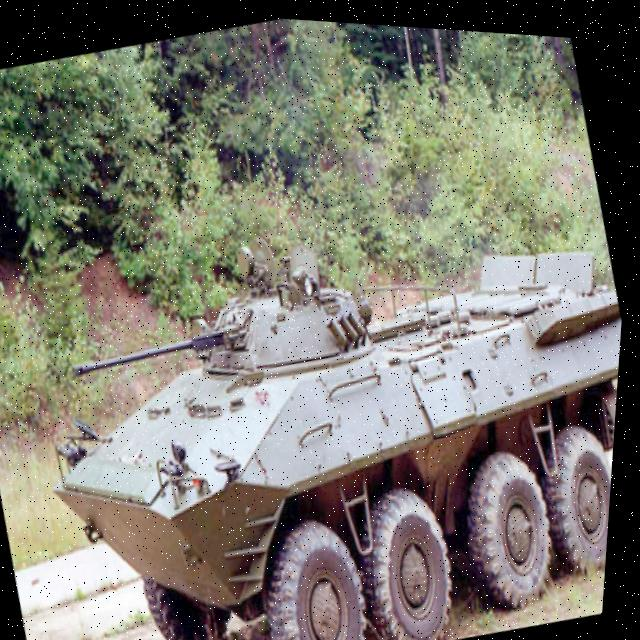MIL_APC: (9, 176, 631, 640)
